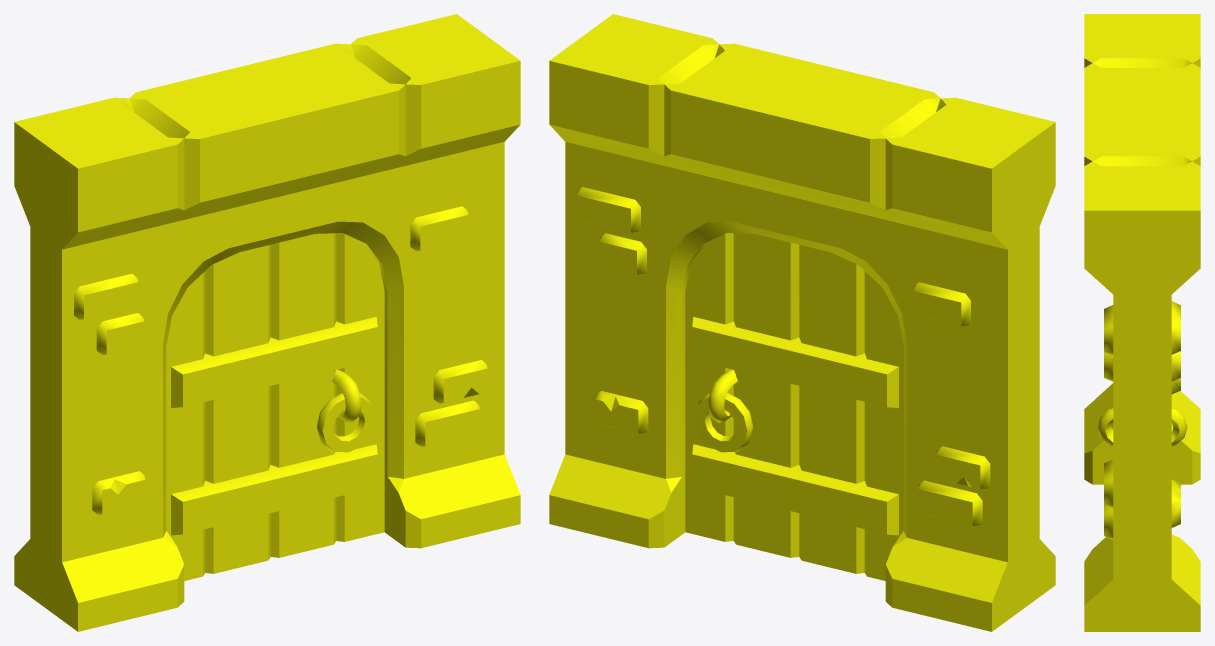
The model's file is kaykit-wall-doorway.glb.
The picture shows the model from 3 angles, left to right: view 1: azimuth 30°, elevation 25°; view 2: azimuth 150°, elevation 25°; view 3: azimuth 270°, elevation 25°; orthographic projection. The views are drawn at different scales.
Parts seen in each view (by area): view 1: wall_doorway; view 2: wall_doorway; view 3: wall_doorway.
Boxes of the visible parts, bbox=[...] form: wall_doorway: bbox=[14, 14, 520, 631]; wall_doorway: bbox=[549, 14, 1055, 631]; wall_doorway: bbox=[1084, 14, 1200, 631].
Bounding box in the file's own units: 4 × 4 × 1.
